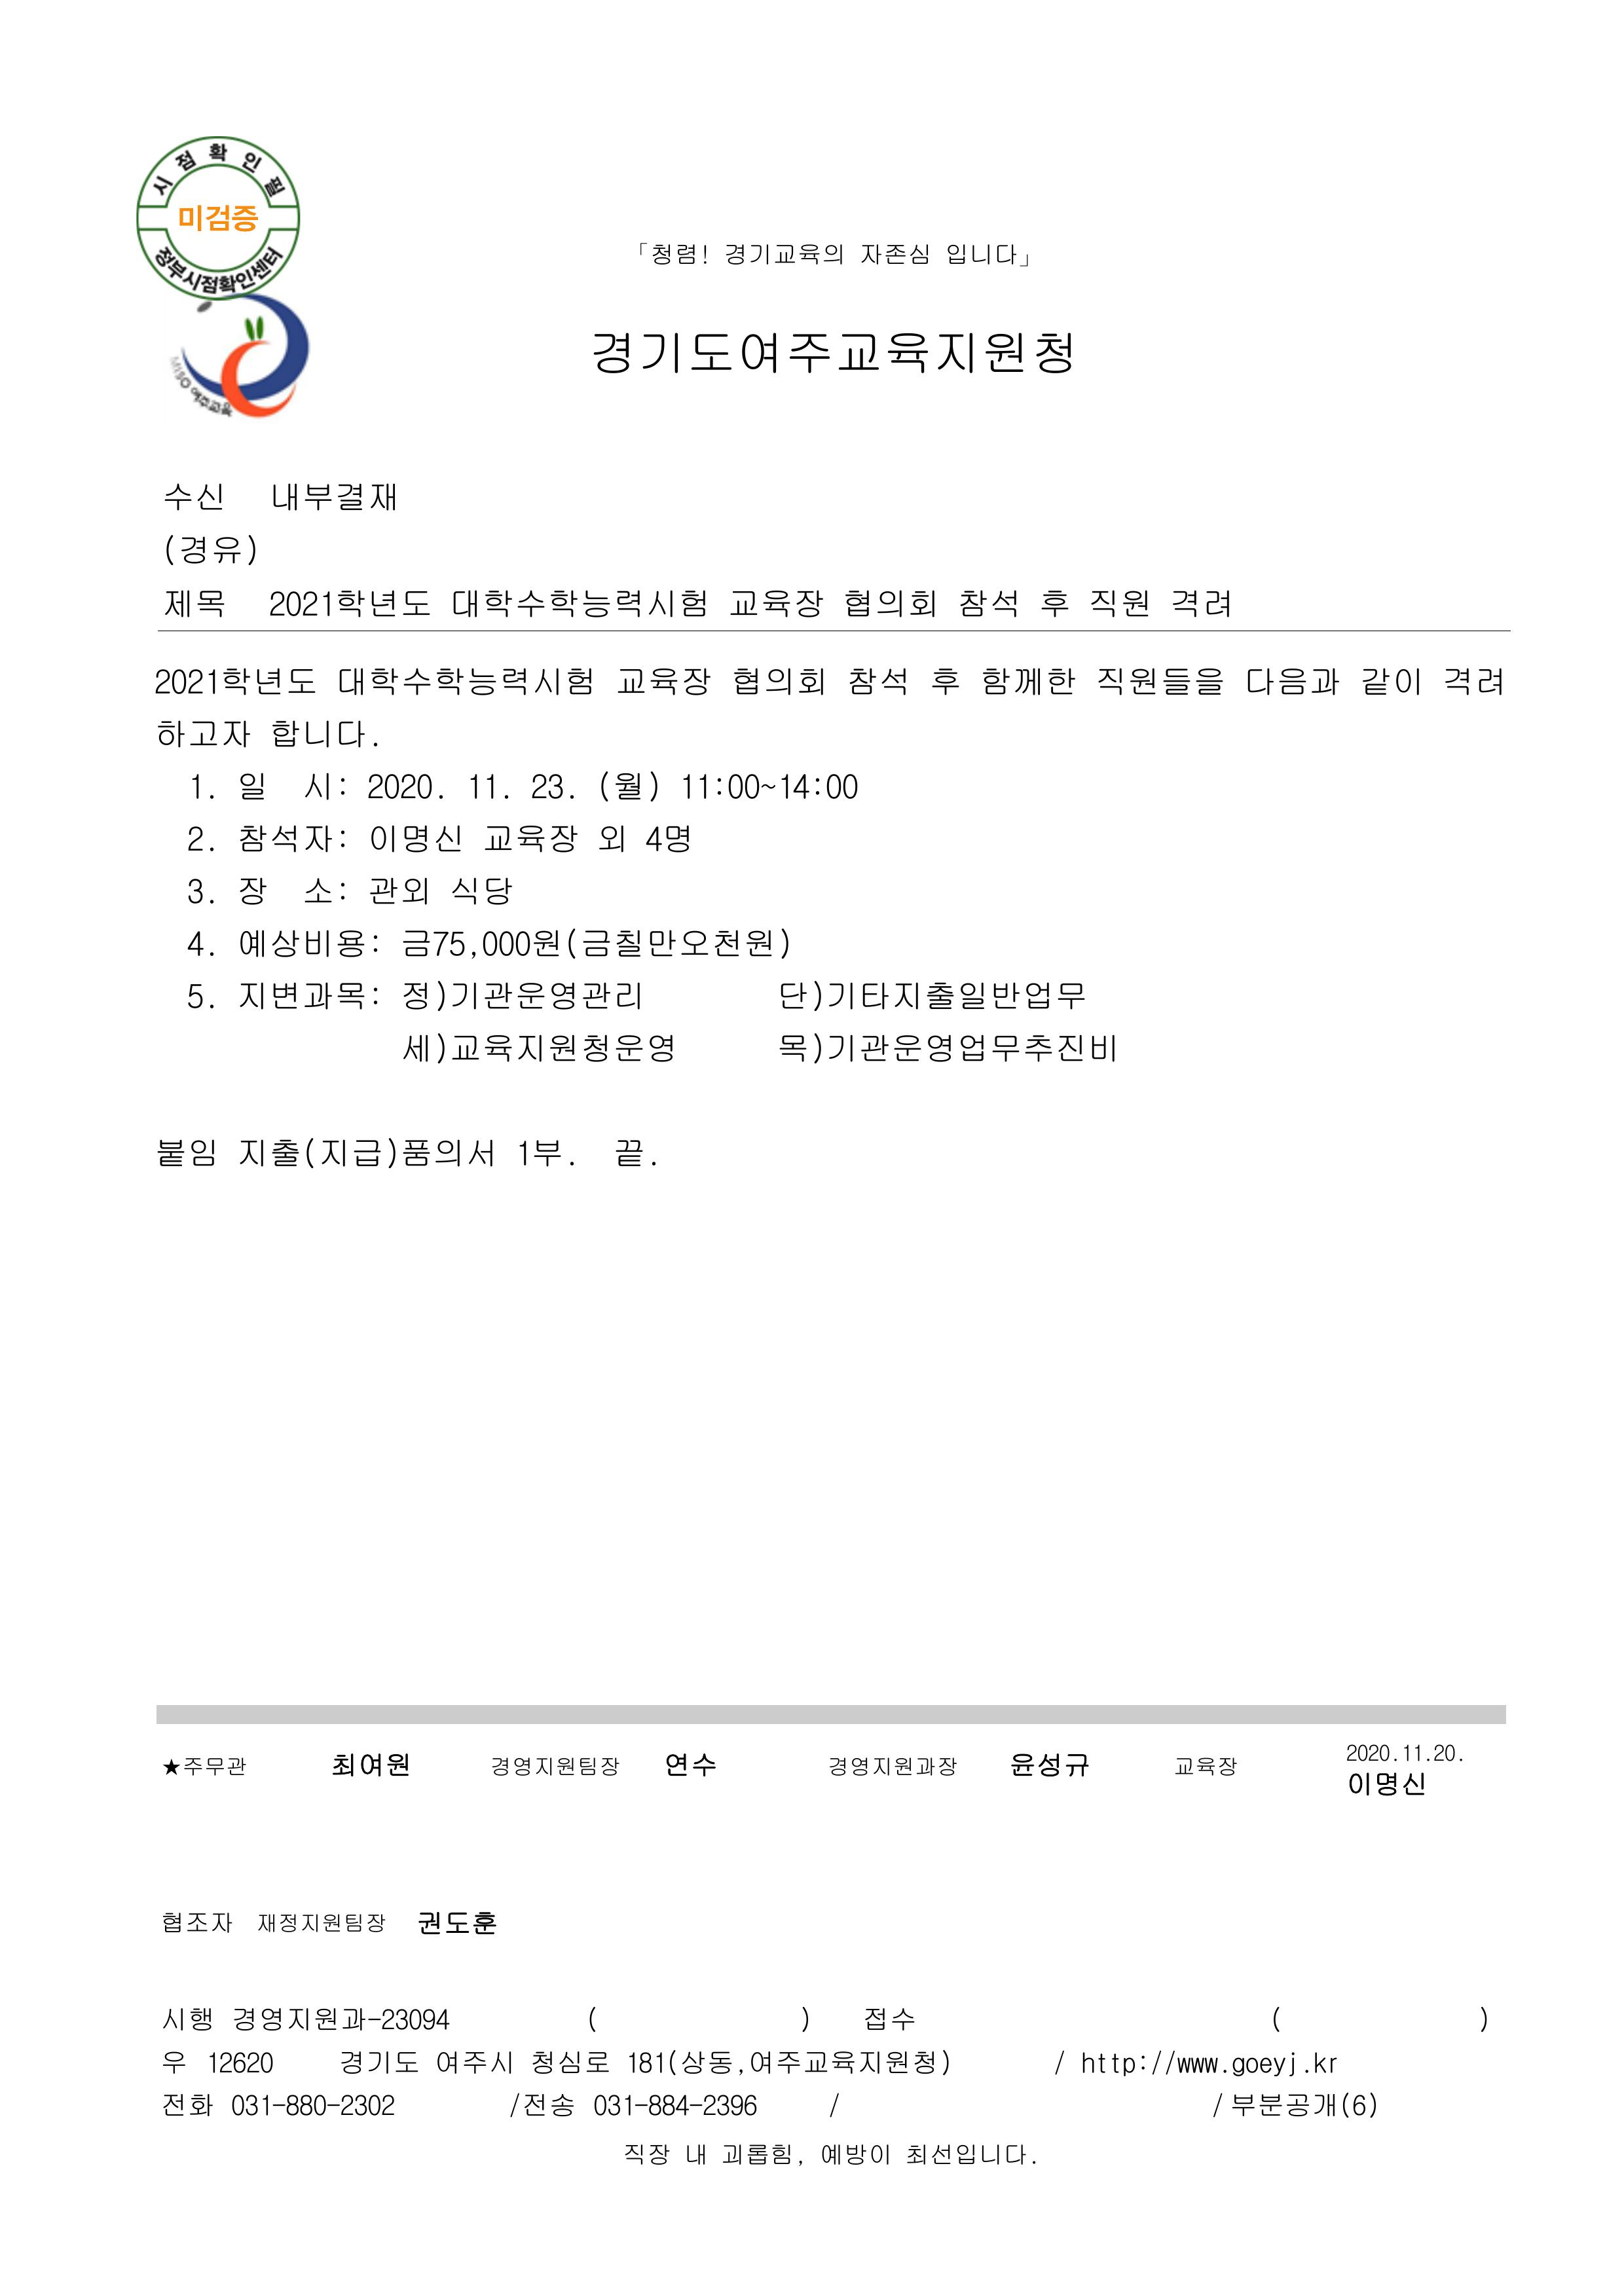t: (591, 329, 1076, 380), (779, 1028, 1118, 1068), (476, 921, 793, 961), (773, 975, 1083, 1014), (624, 2044, 953, 2079), (448, 583, 707, 624), (401, 1028, 678, 1065), (232, 1133, 494, 1172), (334, 662, 596, 699), (397, 975, 642, 1014), (673, 766, 861, 803), (265, 583, 431, 624), (153, 662, 315, 701), (237, 975, 383, 1014), (1225, 2088, 1380, 2123), (237, 924, 380, 961), (269, 476, 397, 517), (1090, 662, 1223, 699), (953, 583, 1072, 620), (228, 2000, 341, 2037), (232, 821, 348, 856), (975, 662, 1079, 699), (269, 717, 373, 754), (842, 583, 935, 624), (490, 1754, 624, 1782), (828, 1756, 961, 1784), (162, 531, 258, 569), (613, 662, 714, 699), (1241, 662, 1341, 699), (728, 583, 824, 620), (728, 662, 824, 699), (907, 2140, 1033, 2168), (480, 821, 580, 856), (366, 821, 462, 856), (258, 1912, 387, 1937), (341, 2005, 452, 2033), (685, 2140, 796, 2168), (155, 717, 251, 749), (176, 200, 258, 237), (724, 244, 845, 269), (1007, 1747, 1090, 1782), (527, 2044, 610, 2079), (417, 1907, 499, 1940), (397, 924, 469, 961), (1345, 1768, 1427, 1799), (337, 2047, 418, 2079), (1083, 583, 1151, 620), (1165, 583, 1234, 620), (842, 662, 910, 699), (596, 766, 663, 803), (162, 583, 227, 620), (1359, 662, 1424, 699), (366, 771, 441, 803), (434, 2047, 517, 2075), (366, 872, 431, 907), (448, 872, 513, 907), (856, 239, 932, 269), (162, 1907, 237, 1937), (506, 2088, 576, 2119), (817, 2140, 896, 2168), (1438, 662, 1503, 696), (946, 244, 1033, 269), (165, 480, 227, 513), (204, 2047, 276, 2075), (1079, 2051, 1151, 2079), (156, 1137, 218, 1169), (696, 2089, 761, 2119), (337, 2088, 397, 2119), (462, 766, 513, 803), (513, 1137, 569, 1169), (162, 1757, 246, 1778), (861, 2000, 914, 2033), (642, 821, 691, 856), (1230, 2054, 1301, 2079), (663, 1747, 717, 1778), (527, 766, 573, 803), (329, 1750, 387, 1778), (301, 771, 352, 803), (301, 875, 352, 907), (162, 2005, 214, 2033), (620, 2140, 673, 2168), (589, 2089, 638, 2119), (1172, 1757, 1241, 1778), (283, 2089, 329, 2119), (1162, 2054, 1223, 2075), (165, 2095, 218, 2119), (649, 244, 700, 269), (645, 2095, 696, 2119), (924, 662, 961, 696), (237, 875, 276, 907), (613, 1137, 649, 1169), (228, 2095, 272, 2119), (1345, 1743, 1396, 1764), (596, 821, 627, 854), (237, 771, 265, 803), (190, 773, 214, 803), (190, 824, 211, 856), (387, 1754, 411, 1778), (1431, 1743, 1459, 1764), (1313, 2054, 1341, 2075), (190, 931, 211, 958), (1403, 1743, 1427, 1764), (190, 879, 207, 907), (190, 982, 207, 1010)
